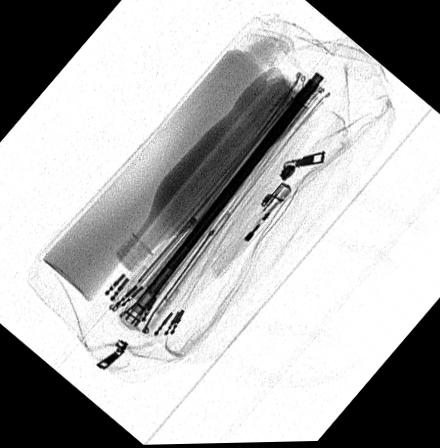Lighter: (208, 182, 292, 279)
